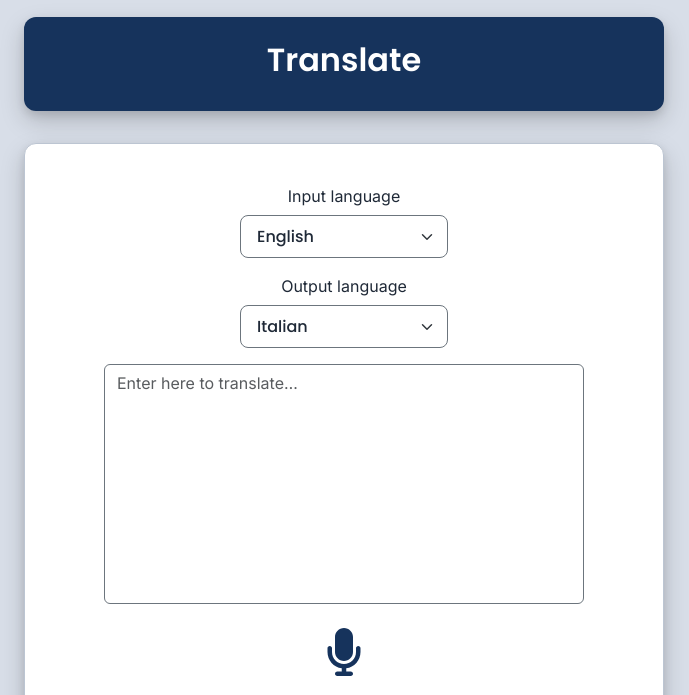
Test case: Translate › announces when the transcript arrives
Click the button named "Start recording": coordinates (344, 652) [318,620,370,684]
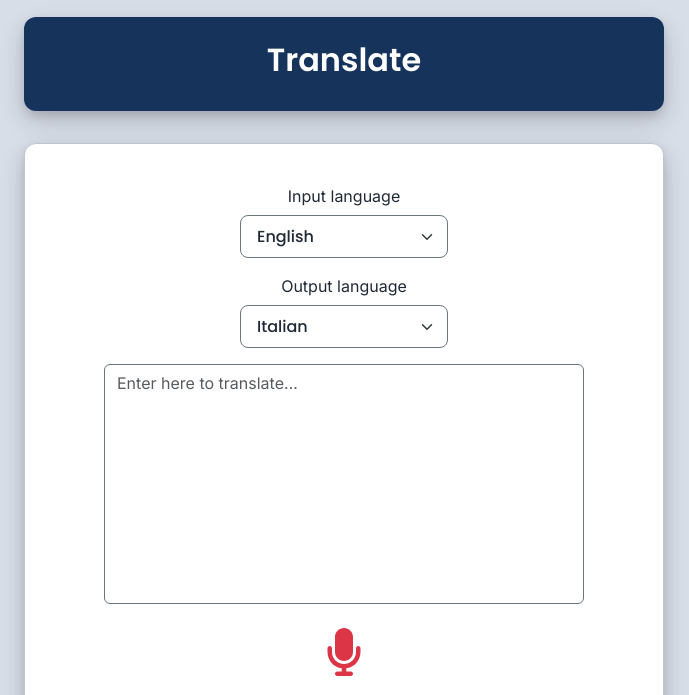
Click the button named "Stop recording": coordinates (344, 652) [318,620,370,684]
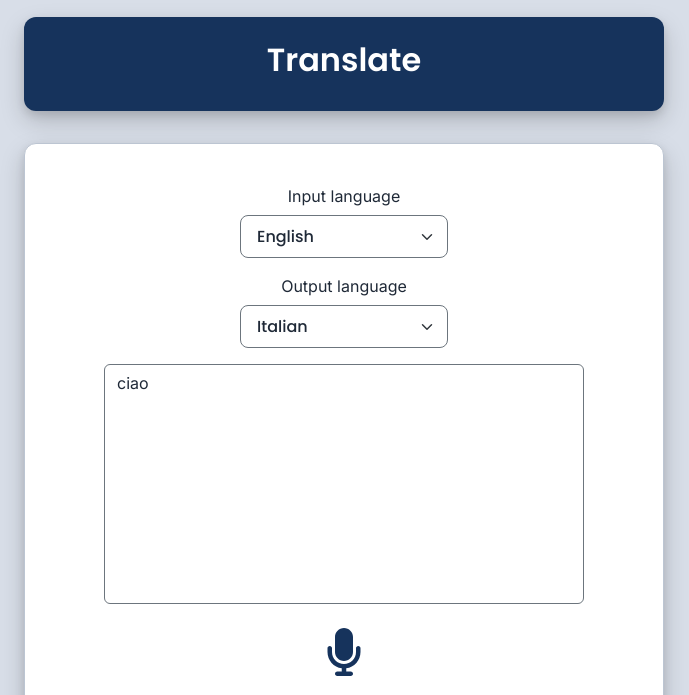
expect the text box holds "ciao": met, box [104,364,584,604]
